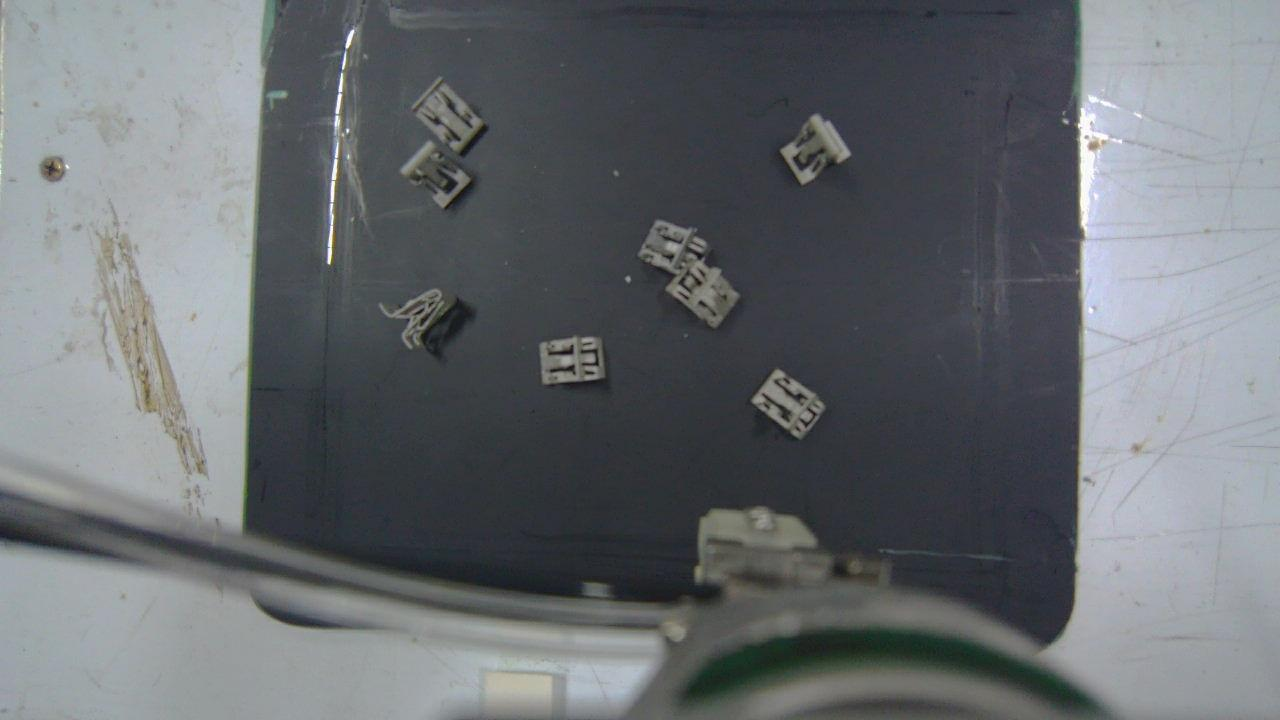ng: (413, 74, 483, 153), (750, 370, 827, 441), (669, 260, 740, 328), (782, 115, 852, 182), (398, 143, 471, 205), (378, 289, 446, 351), (637, 218, 710, 275), (539, 335, 607, 382)
